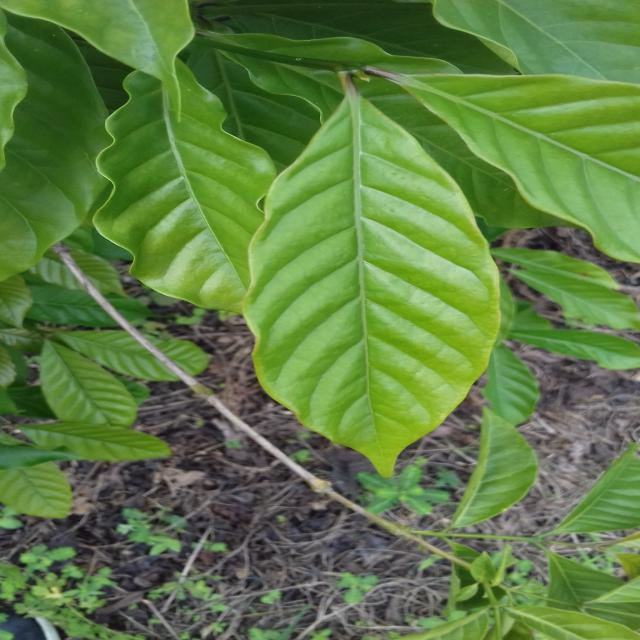Sanas: (242, 83, 503, 482)
